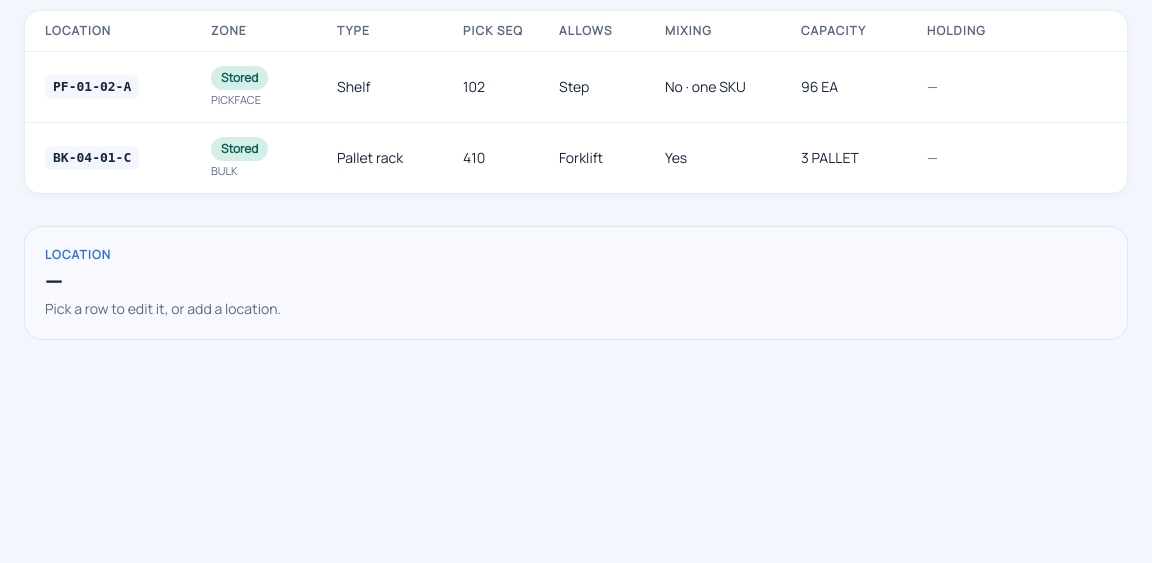
Test: Locations › prints one label from the panel, with the printer already filled in
Click the text "BK-04-01-C": x=92, y=158 45,146 -> 139,170
(page scrolled)
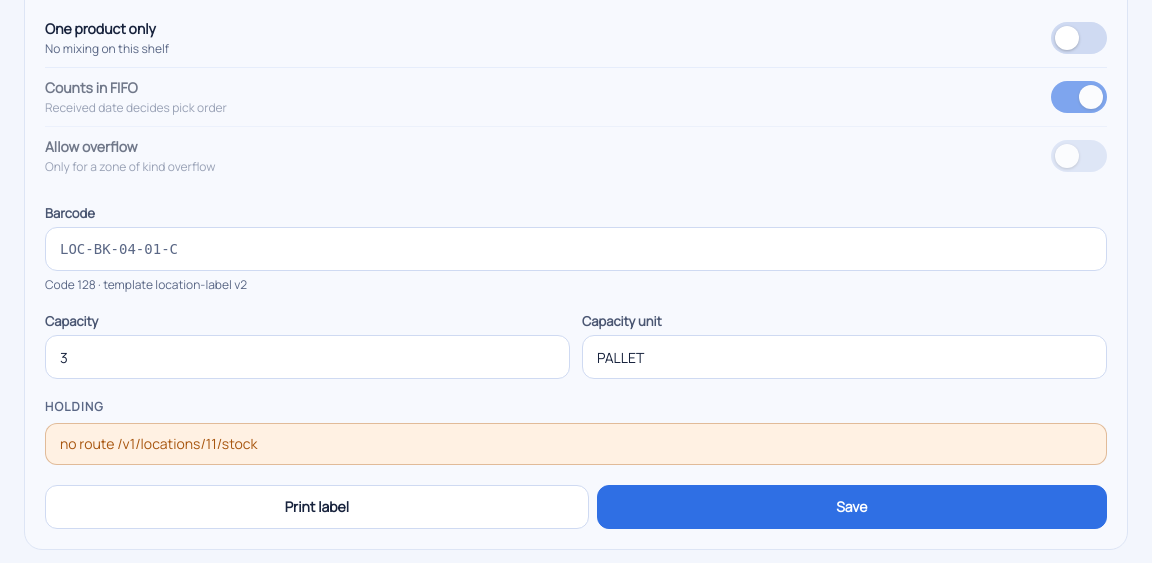
Click the button "Print label": x=317, y=507 45,485 -> 589,529
(page scrolled)
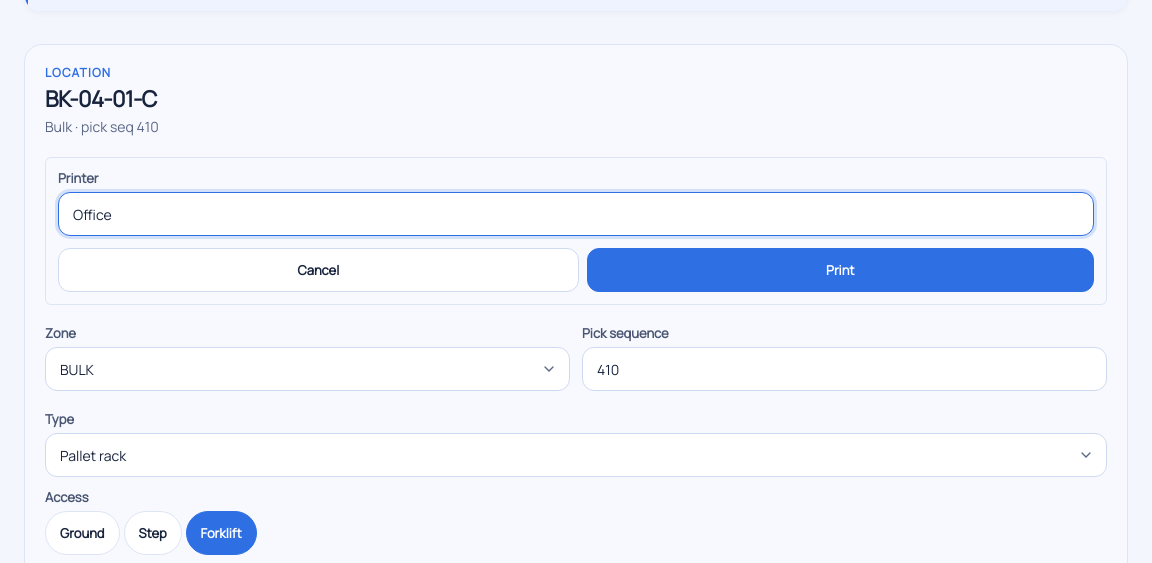
Result: the field labelled "Printer" holds "Office" at 58,192 -> 1094,236
Click the button "Print": x=840, y=270 587,248 -> 1094,292
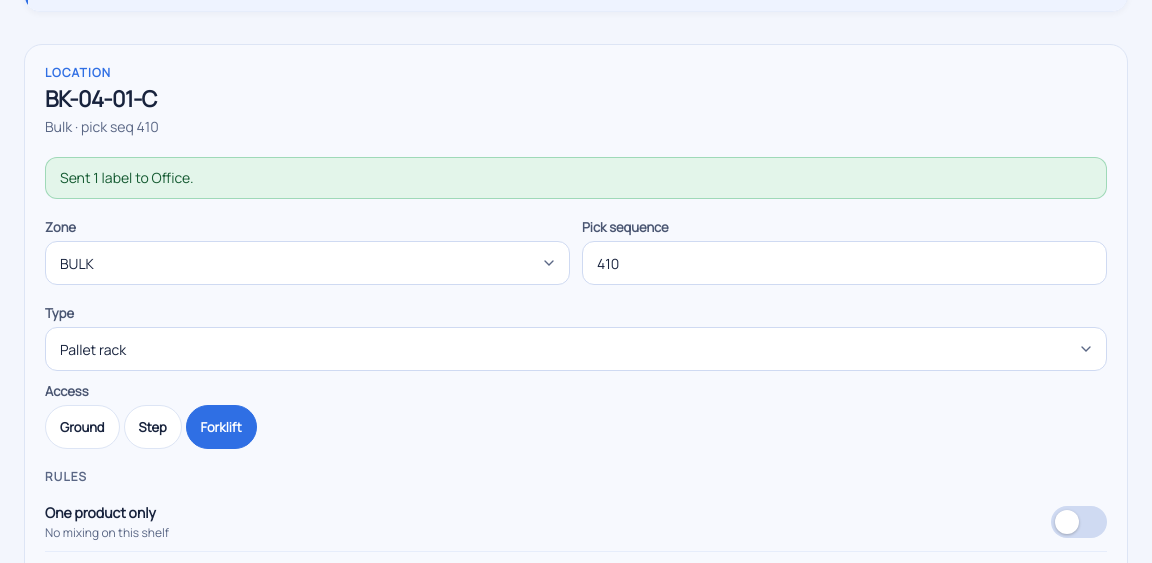
Result: the text "Sent 1 label to Office." is shown at 45,157 -> 1107,199
